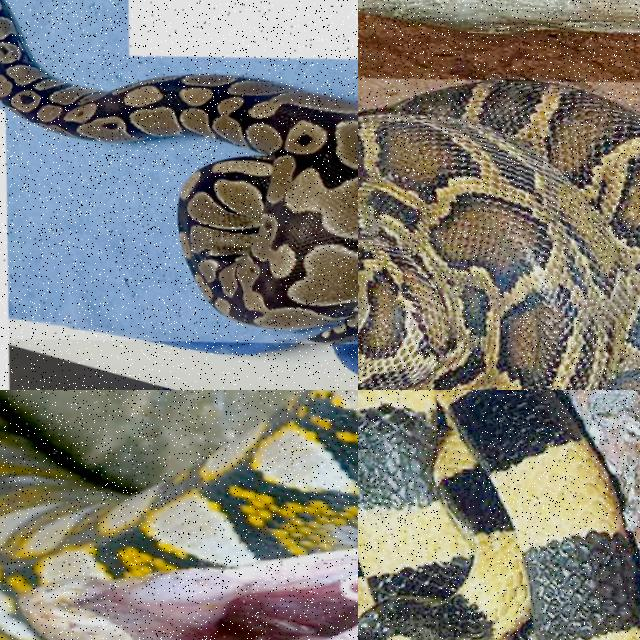Bungarus fasciatus: (358, 390, 639, 639)
Malayopython reticulatus: (0, 390, 357, 639)
Python bivittatus: (0, 0, 357, 342), (358, 80, 639, 389)
